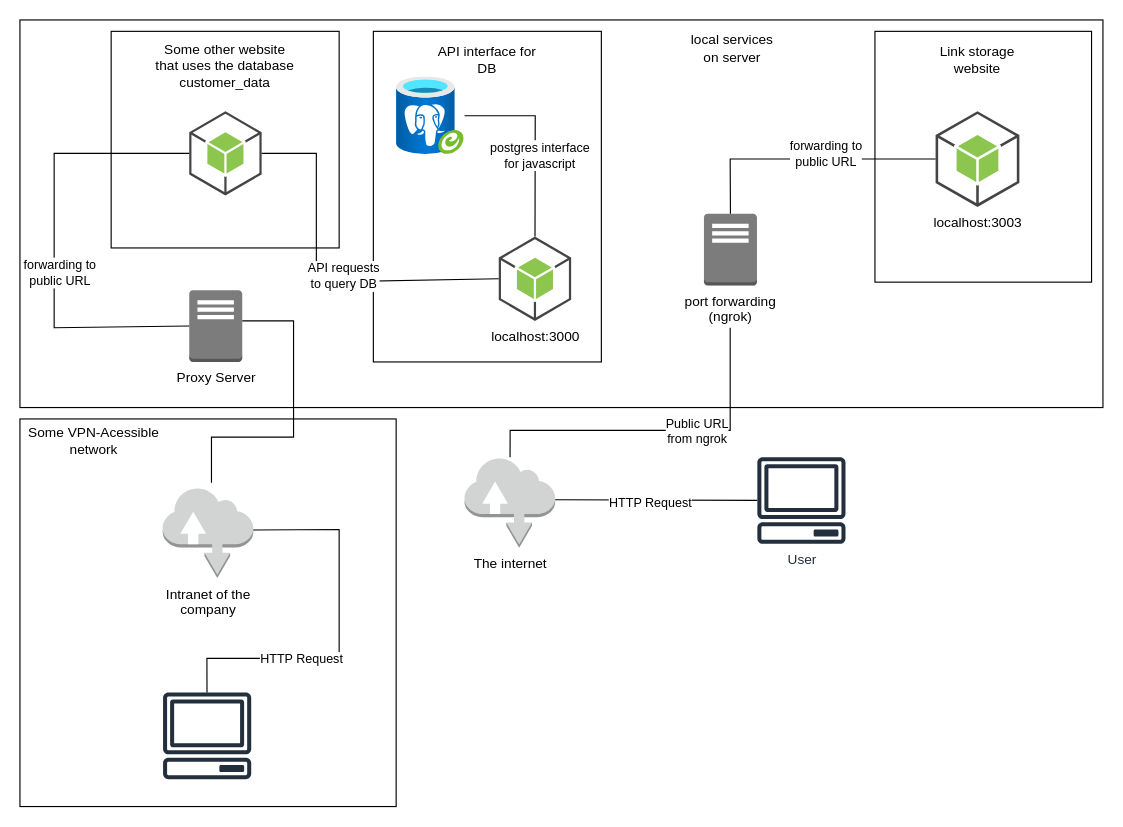
The diagram is 1123 pixels wide and 827 high, and some of its shapes have lost their labels. The shapes that lost their labels are listed below. From the top down, each one's box as (x1, y1, x2, y2) in pixels, then its label:
(396, 76, 464, 154): localhost:5432
(188, 110, 262, 196): localhost:3001
(162, 692, 251, 779): Employees
